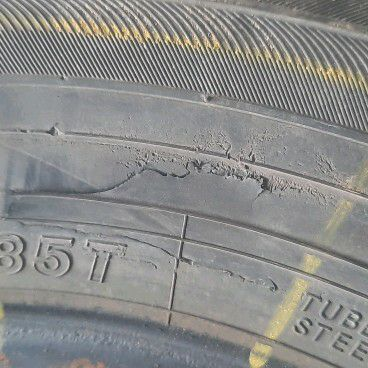cut: (82, 229, 280, 291), (17, 161, 273, 199)
